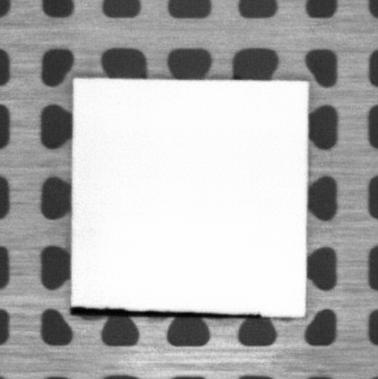DIE_BROKEN: (68, 304, 264, 319)
